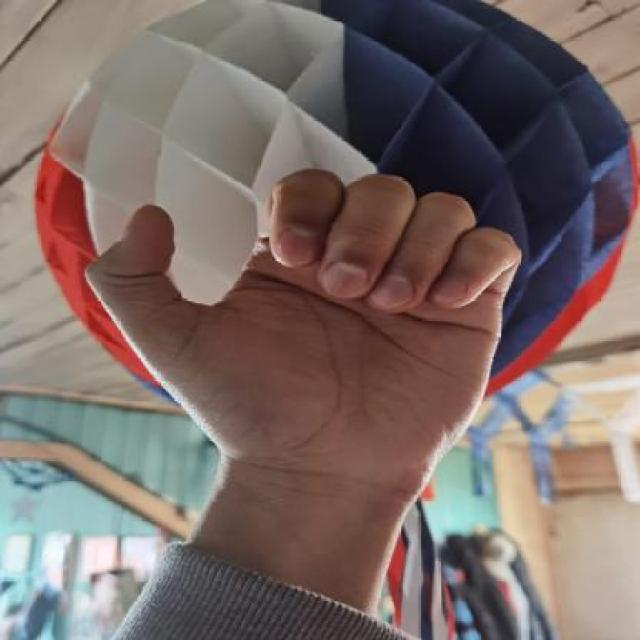E: (78, 158, 537, 490)
